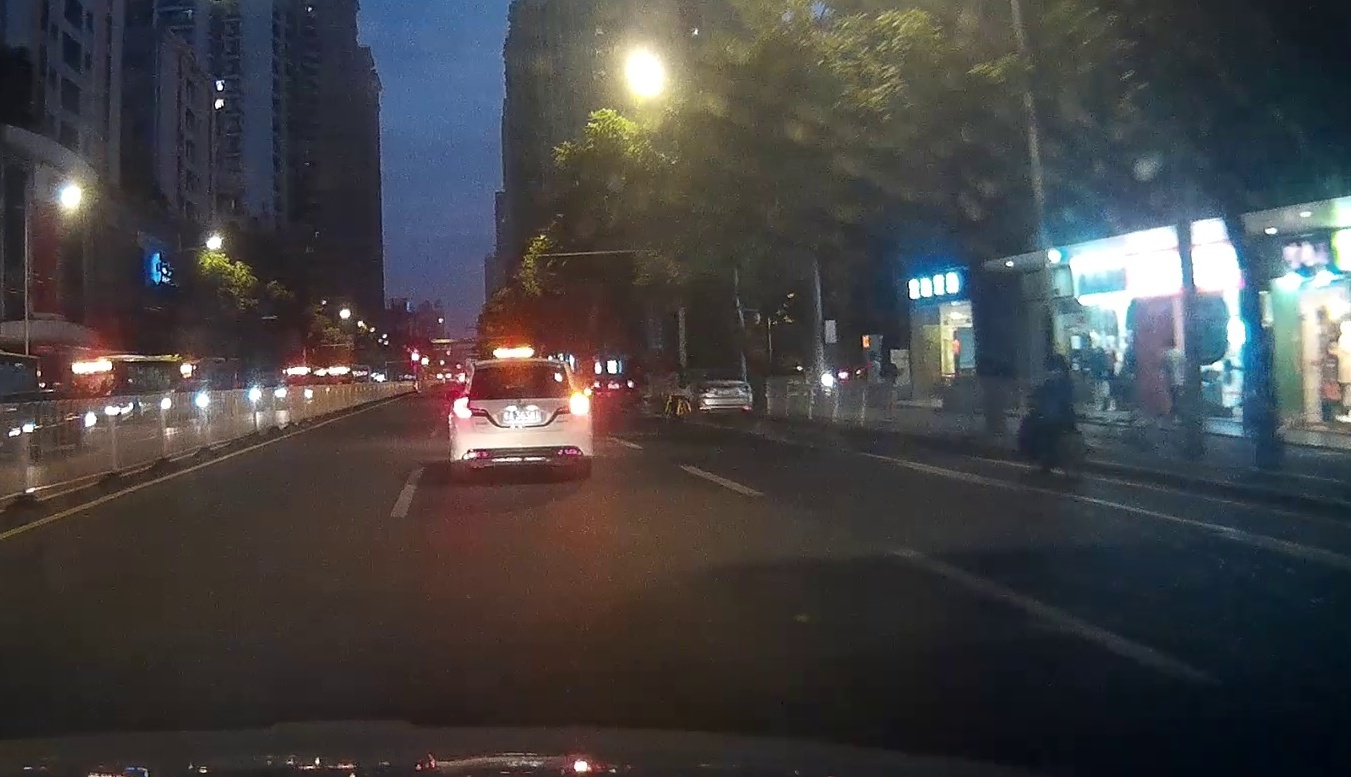L_light: (453, 397, 472, 418)
R_light: (568, 394, 590, 415)
T_light: (511, 362, 528, 366)
night-no: (448, 357, 594, 474)
